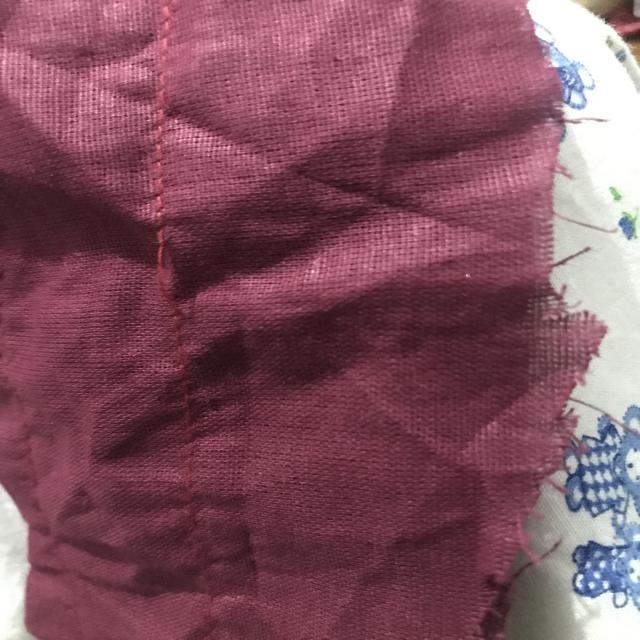skip: (141, 214, 201, 344)
